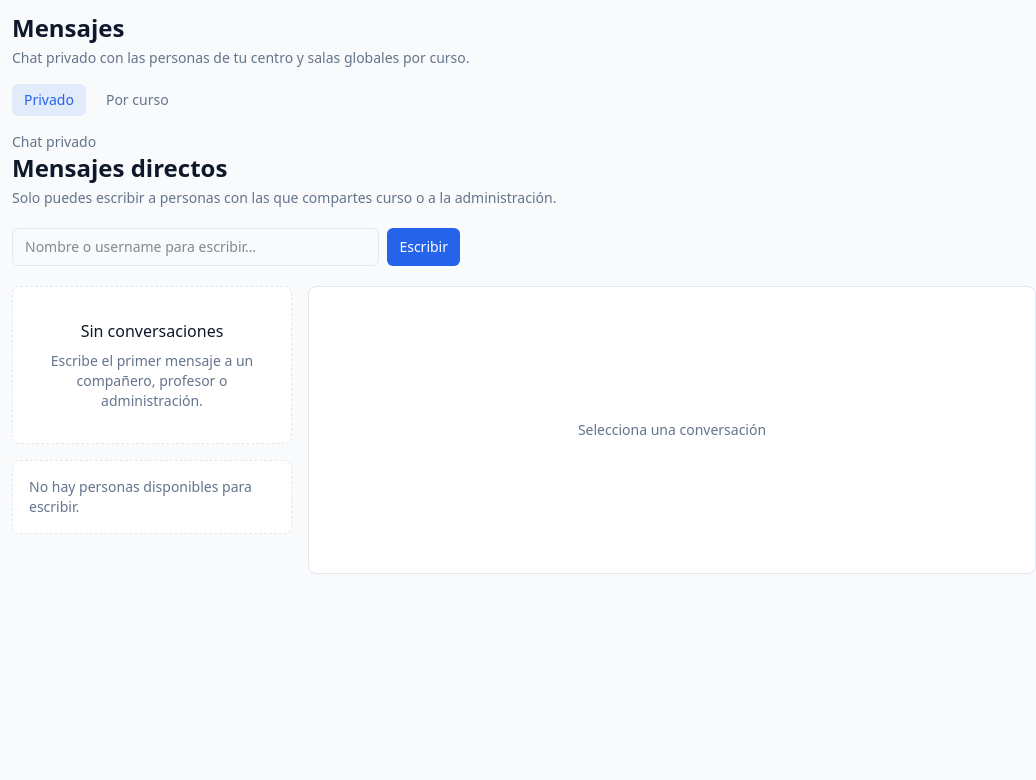
Mensajes Fase B › cambia a la pestaña Por curso
Click the link "Por curso" at (137, 100), box [106, 90, 169, 109]
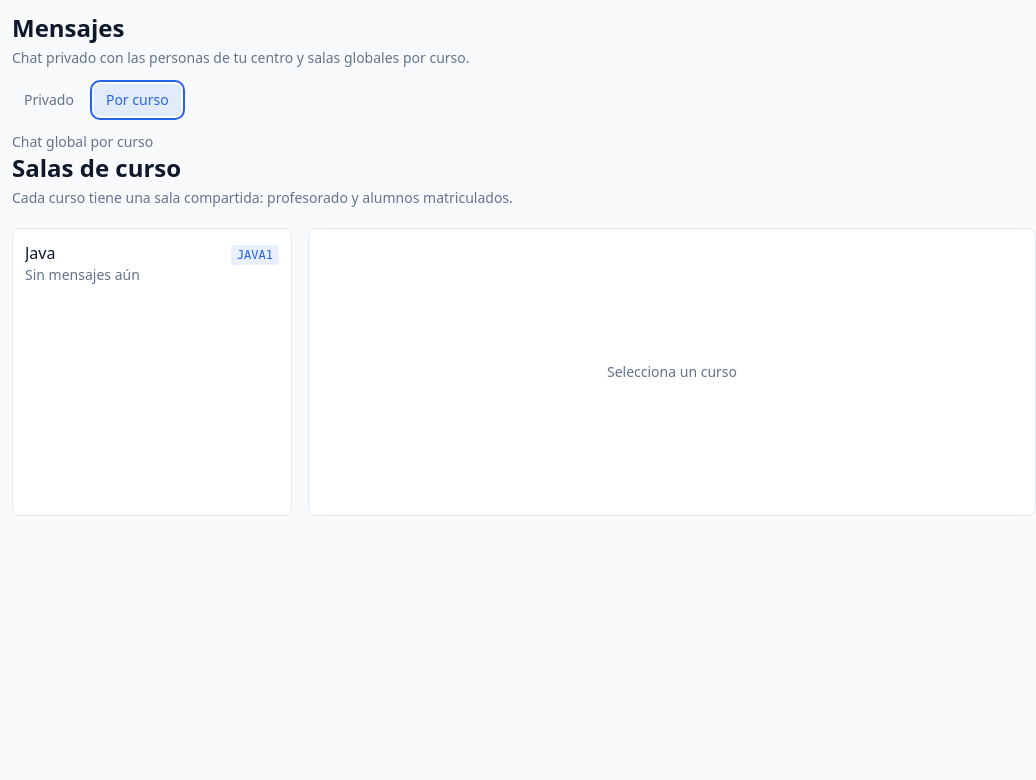
Expected: the heading "Salas de curso" is shown, [12, 151, 181, 184]
